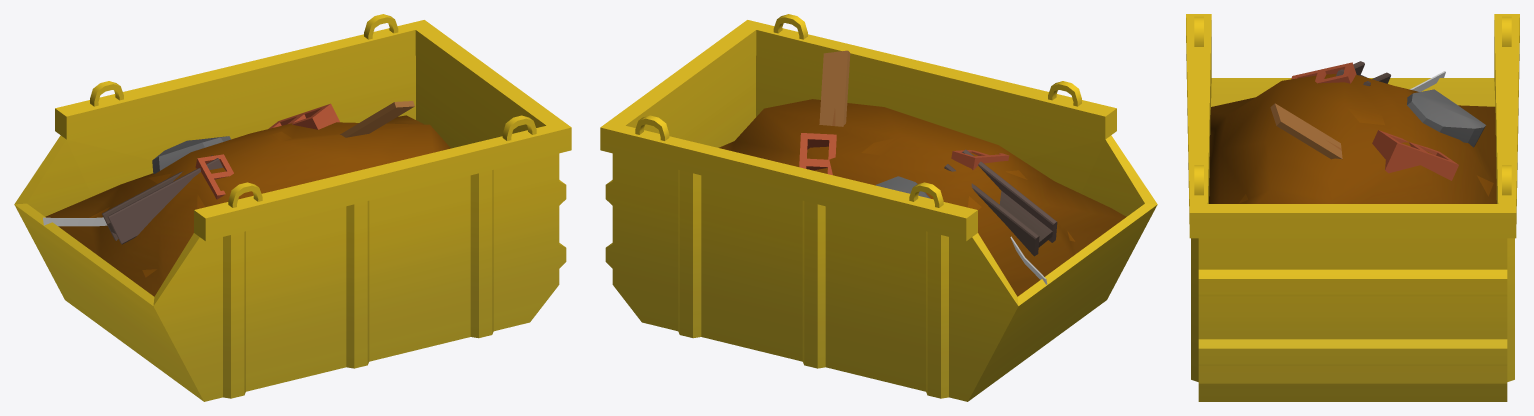
File: RubbleContainer_C_2.fbx
3 views of the same model, side by side, from view 1: azimuth 30°, elevation 25°; view 2: azimuth 150°, elevation 25°; view 3: azimuth 270°, elevation 25° (orthographic). The views are drawn at different scales.
Visible parts, largest first — view 1: RubbleContainer_C_2; view 2: RubbleContainer_C_2; view 3: RubbleContainer_C_2.
Boxes of the visible parts, x1,y1,x2,y2 form: RubbleContainer_C_2: (14, 14, 571, 401); RubbleContainer_C_2: (600, 14, 1157, 401); RubbleContainer_C_2: (1186, 14, 1519, 401).
Bounding box in the file's own units: 413 × 210 × 260.
